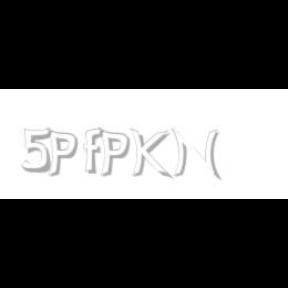5: (21, 128, 52, 174)
K: (130, 128, 170, 180)
N: (171, 128, 220, 180)
P: (46, 128, 78, 178), (98, 128, 130, 178)
f: (83, 128, 107, 174)
